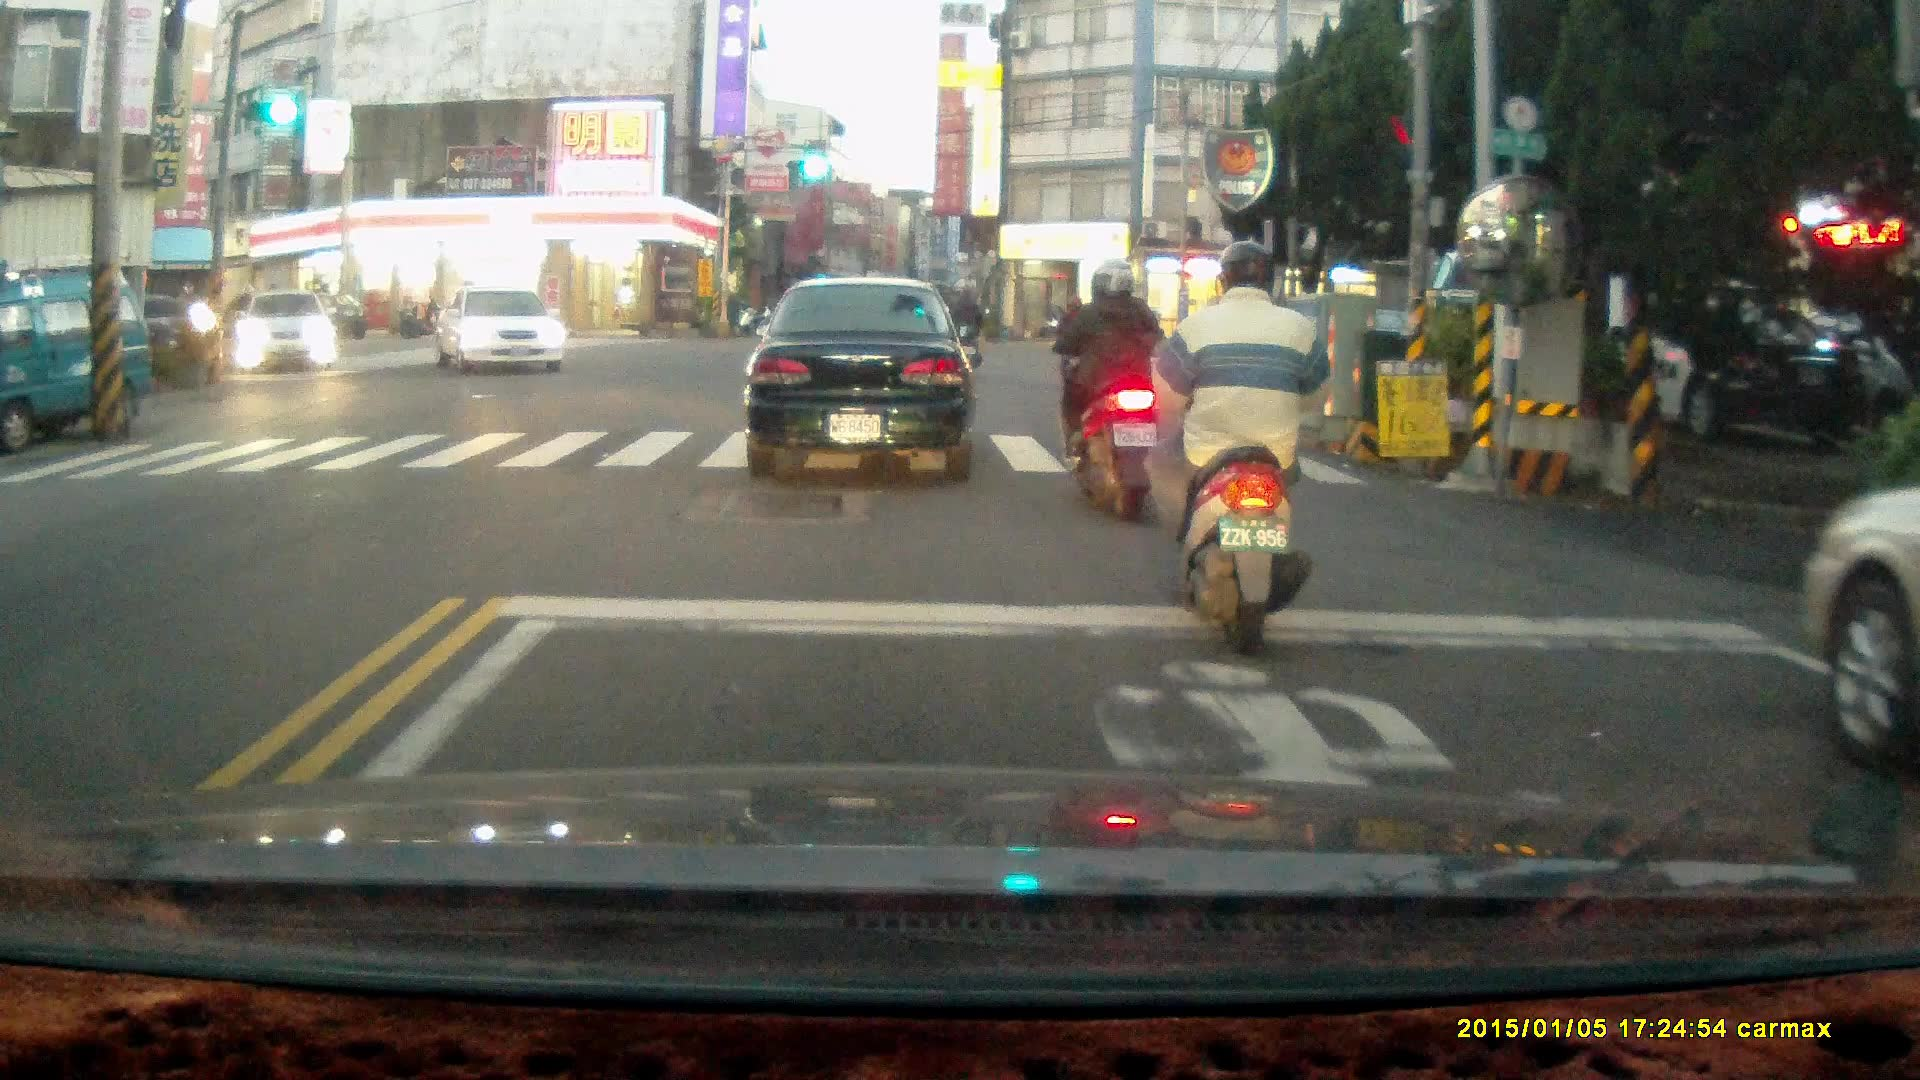rider: (1142, 234, 1337, 641), (1037, 257, 1173, 524), (941, 287, 988, 379)
vehicle: (1547, 276, 1871, 436), (743, 276, 975, 480), (1789, 481, 1920, 783), (1, 266, 156, 457), (434, 289, 568, 375), (232, 291, 341, 377)
